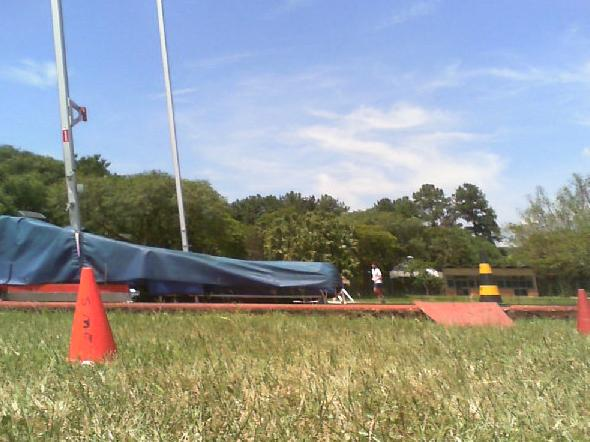0 cone: (66, 267, 122, 364), (476, 253, 502, 306), (576, 289, 590, 335)
